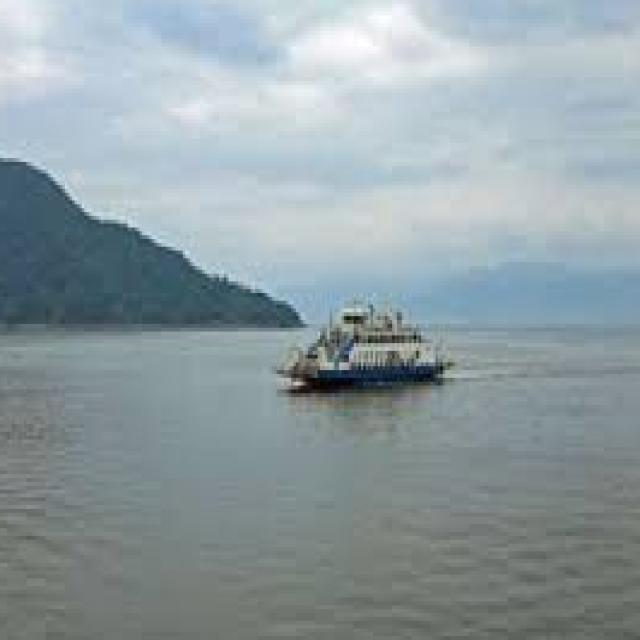passenger ship: (272, 278, 438, 402)
